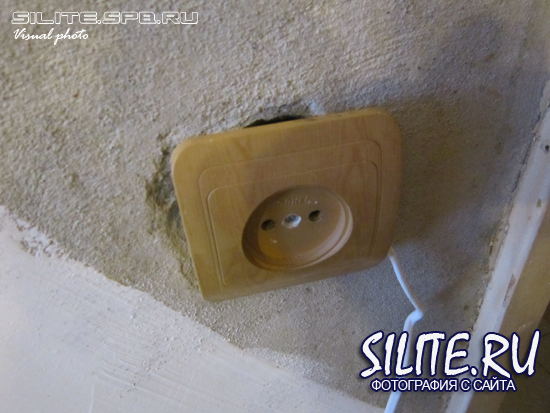raccoon: (240, 184, 354, 275)
